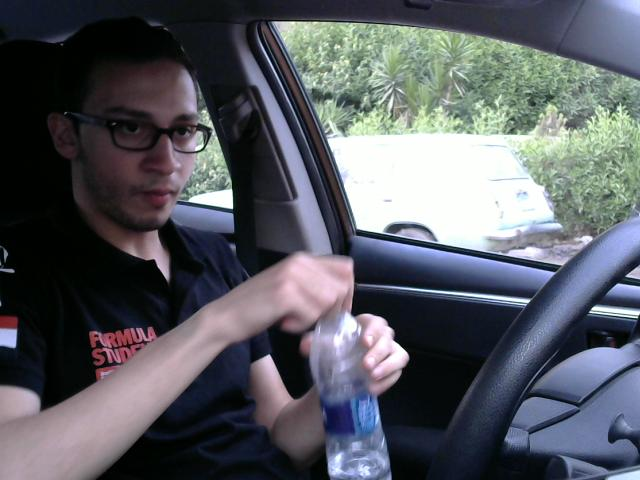Drinking: (302, 289, 403, 480)
